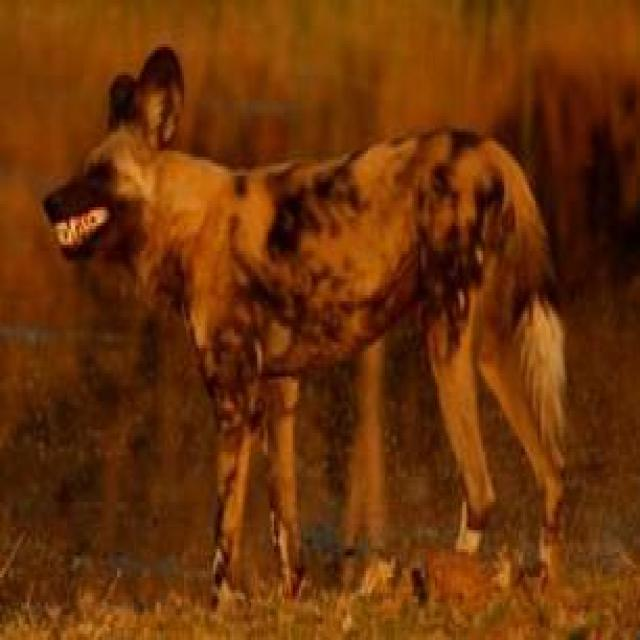Dog: (43, 70, 568, 577)
